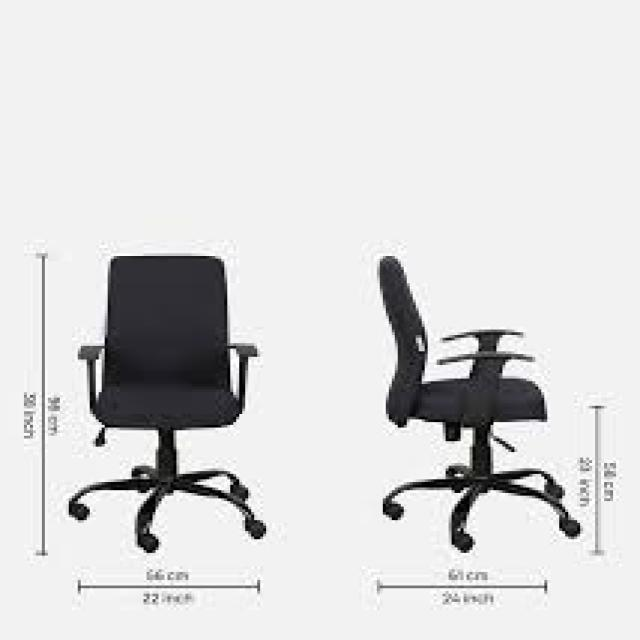chair: (334, 244, 605, 570), (50, 248, 316, 576)
